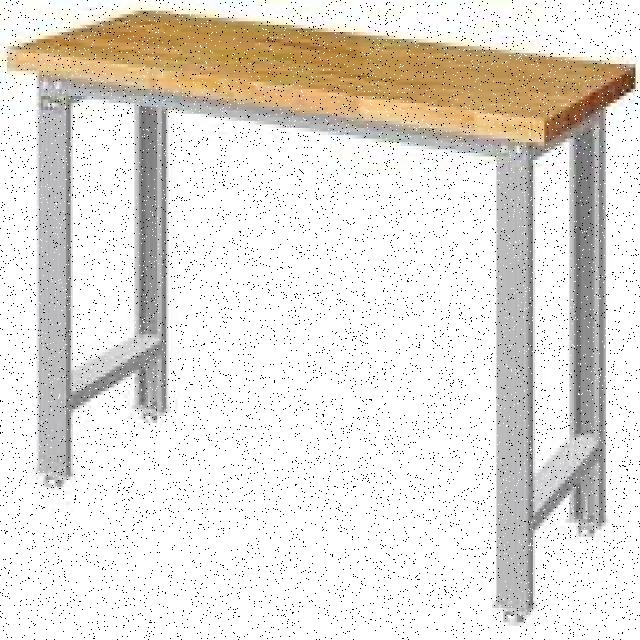mobile-phone: (1, 10, 640, 623)
